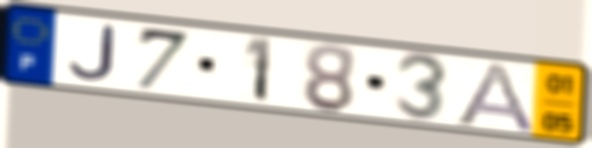1: (242, 35, 275, 106)
3: (392, 49, 451, 127)
7: (130, 24, 196, 92)
8: (300, 41, 359, 115)
A: (449, 59, 539, 135)
J: (65, 23, 119, 84)
